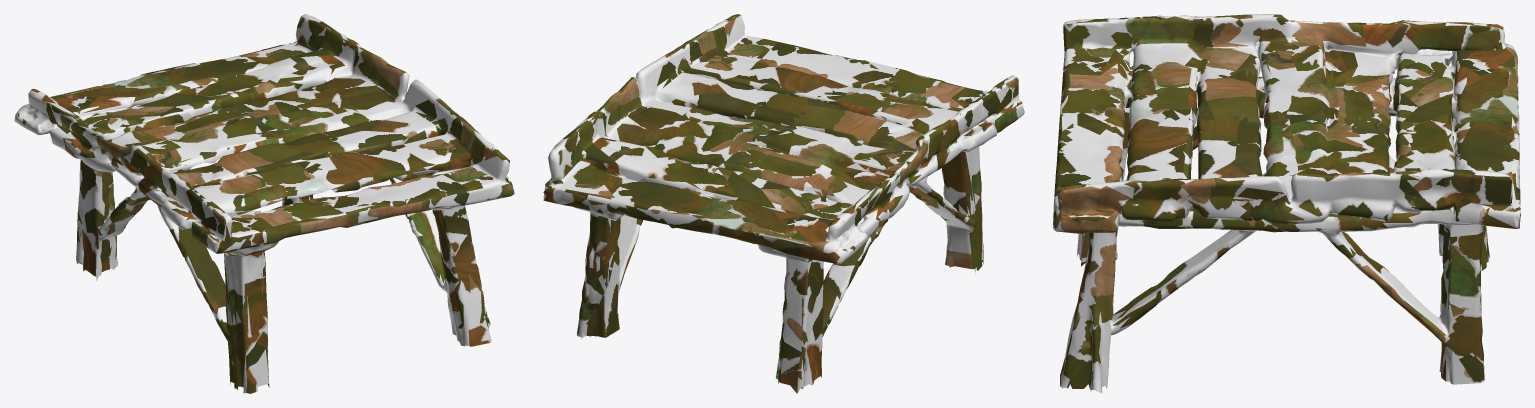
Rendered from dock3.fbx.
3 views of the same model, side by side, from view 1: azimuth 30°, elevation 25°; view 2: azimuth 150°, elevation 25°; view 3: azimuth 270°, elevation 25° (orthographic). The views are drawn at different scales.
Visible parts, largest first — view 1: Layer_1; view 2: Layer_1; view 3: Layer_1.
Boxes of the visible parts, left/top/right/bottom form: Layer_1: left=14, top=14, right=514, bottom=393; Layer_1: left=543, top=14, right=1024, bottom=393; Layer_1: left=1053, top=14, right=1520, bottom=393.
Size of the model in its own units: 74.92 by 45.46 by 85.06.
